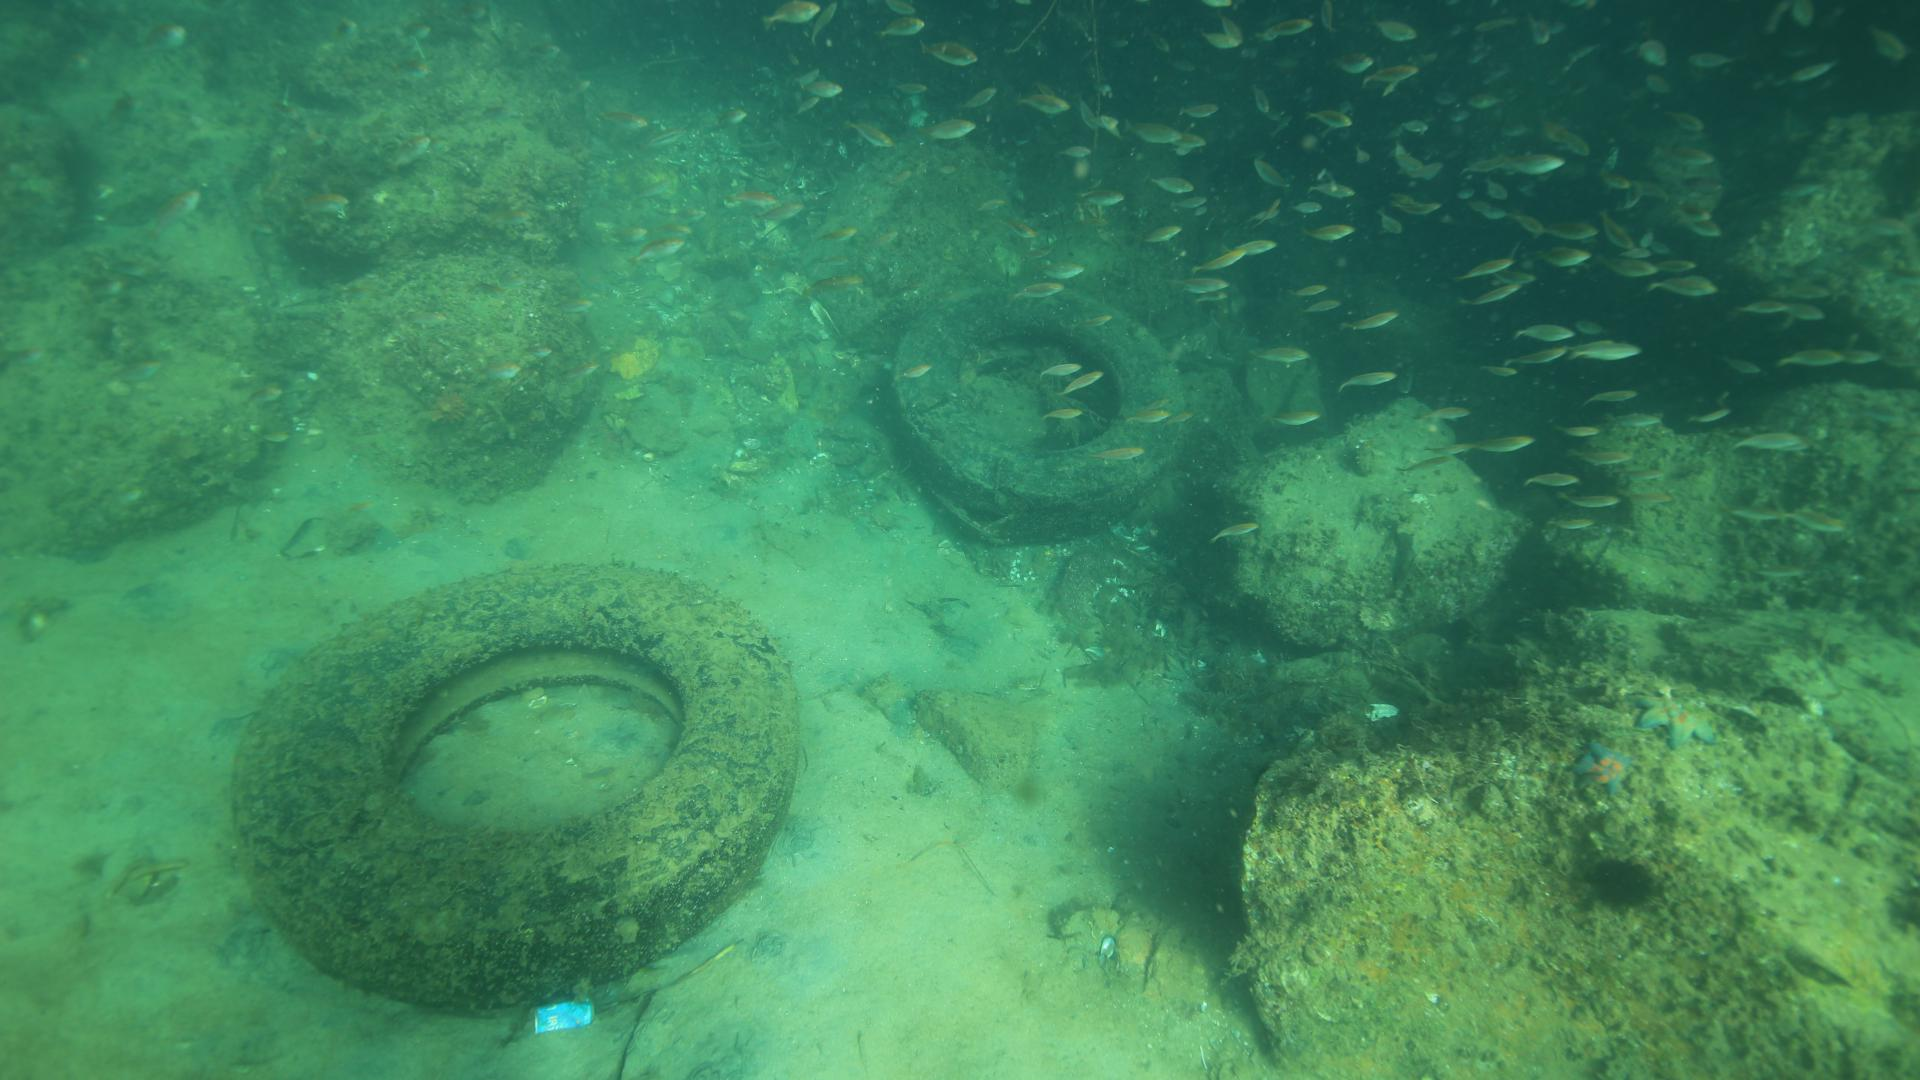tire: (228, 556, 811, 1014), (887, 285, 1189, 539)
